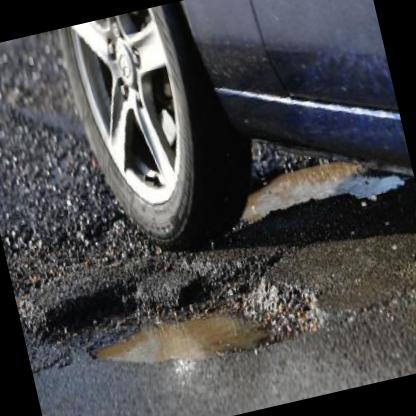pothole: (32, 236, 331, 401)
